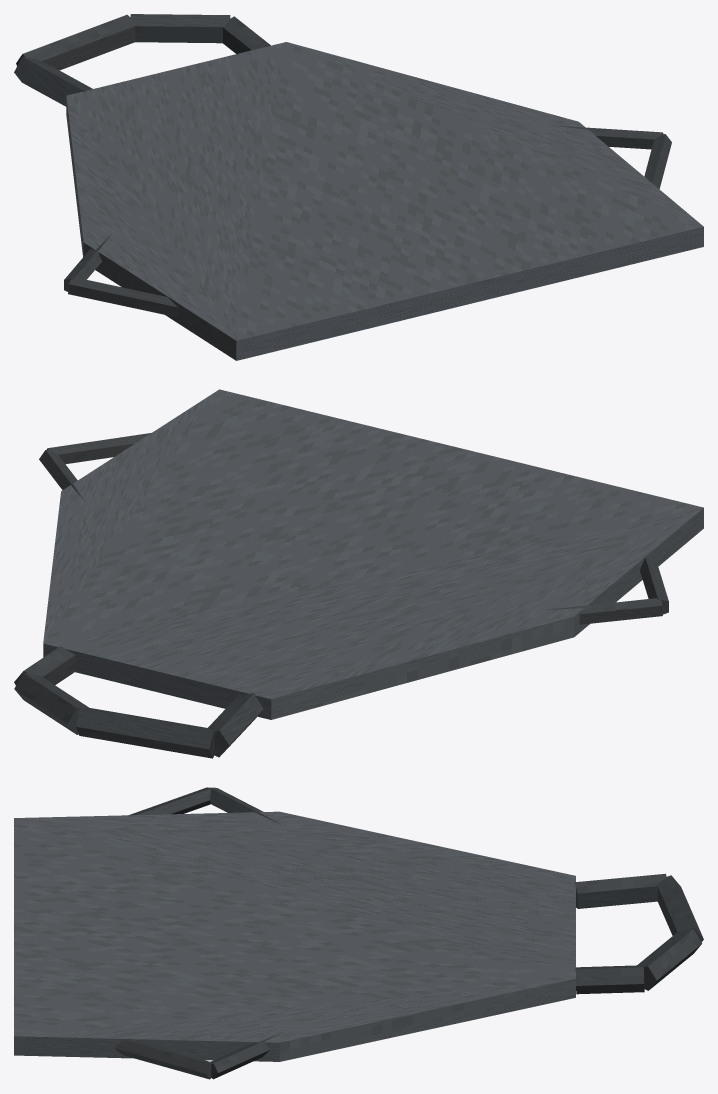
File: apron_cut_resistant.glb
3 renders of one model, top to bottom at view 1: azimuth 30°, elevation 25°; view 2: azimuth 150°, elevation 25°; view 3: azimuth 270°, elevation 25°, orthographic. The views are drawn at different scales.
Visible parts, largest first — view 1: block_apron panel, block_neck loop 1, block_waist tie 1 (×2), block_neck loop 2, block_waist tie 0 (×2), block_neck loop 0, block_neck loop 3; view 2: block_apron panel, block_neck loop 1, block_waist tie 0 (×2), block_waist tie 1 (×2), block_neck loop 2, block_neck loop 0, block_neck loop 3; view 3: block_apron panel, block_waist tie 1 (×2), block_neck loop 0, block_neck loop 3, block_waist tie 0 (×2), block_neck loop 2, block_neck loop 1.
Part boxes in pixels (left/top/right/bottom): block_apron panel: left=66, top=42, right=703, bottom=360; block_neck loop 1: left=16, top=14, right=135, bottom=70; block_waist tie 1 (×2): left=68, top=134, right=671, bottom=317; block_neck loop 2: left=130, top=14, right=230, bottom=43; block_waist tie 0 (×2): left=64, top=125, right=663, bottom=291; block_neck loop 0: left=14, top=56, right=92, bottom=106; block_neck loop 3: left=223, top=16, right=270, bottom=53; block_apron panel: left=43, top=389, right=703, bottom=719; block_neck loop 1: left=76, top=708, right=214, bottom=758; block_waist tie 0 (×2): left=39, top=450, right=662, bottom=624; block_waist tie 1 (×2): left=46, top=433, right=668, bottom=614; block_neck loop 2: left=14, top=673, right=89, bottom=734; block_neck loop 0: left=208, top=693, right=263, bottom=757; block_neck loop 3: left=14, top=646, right=75, bottom=685; block_apron panel: left=14, top=811, right=575, bottom=1061; block_waist tie 1 (×2): left=115, top=787, right=212, bottom=1079; block_neck loop 0: left=574, top=873, right=666, bottom=908; block_neck loop 3: left=575, top=965, right=644, bottom=994; block_waist tie 0 (×2): left=209, top=787, right=284, bottom=1079; block_neck loop 2: left=637, top=929, right=702, bottom=990; block_neck loop 1: left=657, top=875, right=703, bottom=941.
Size of the model in its own units: 0.6011 by 0.0289 by 0.6224.
Materials: 1 (1 with a texture image).
